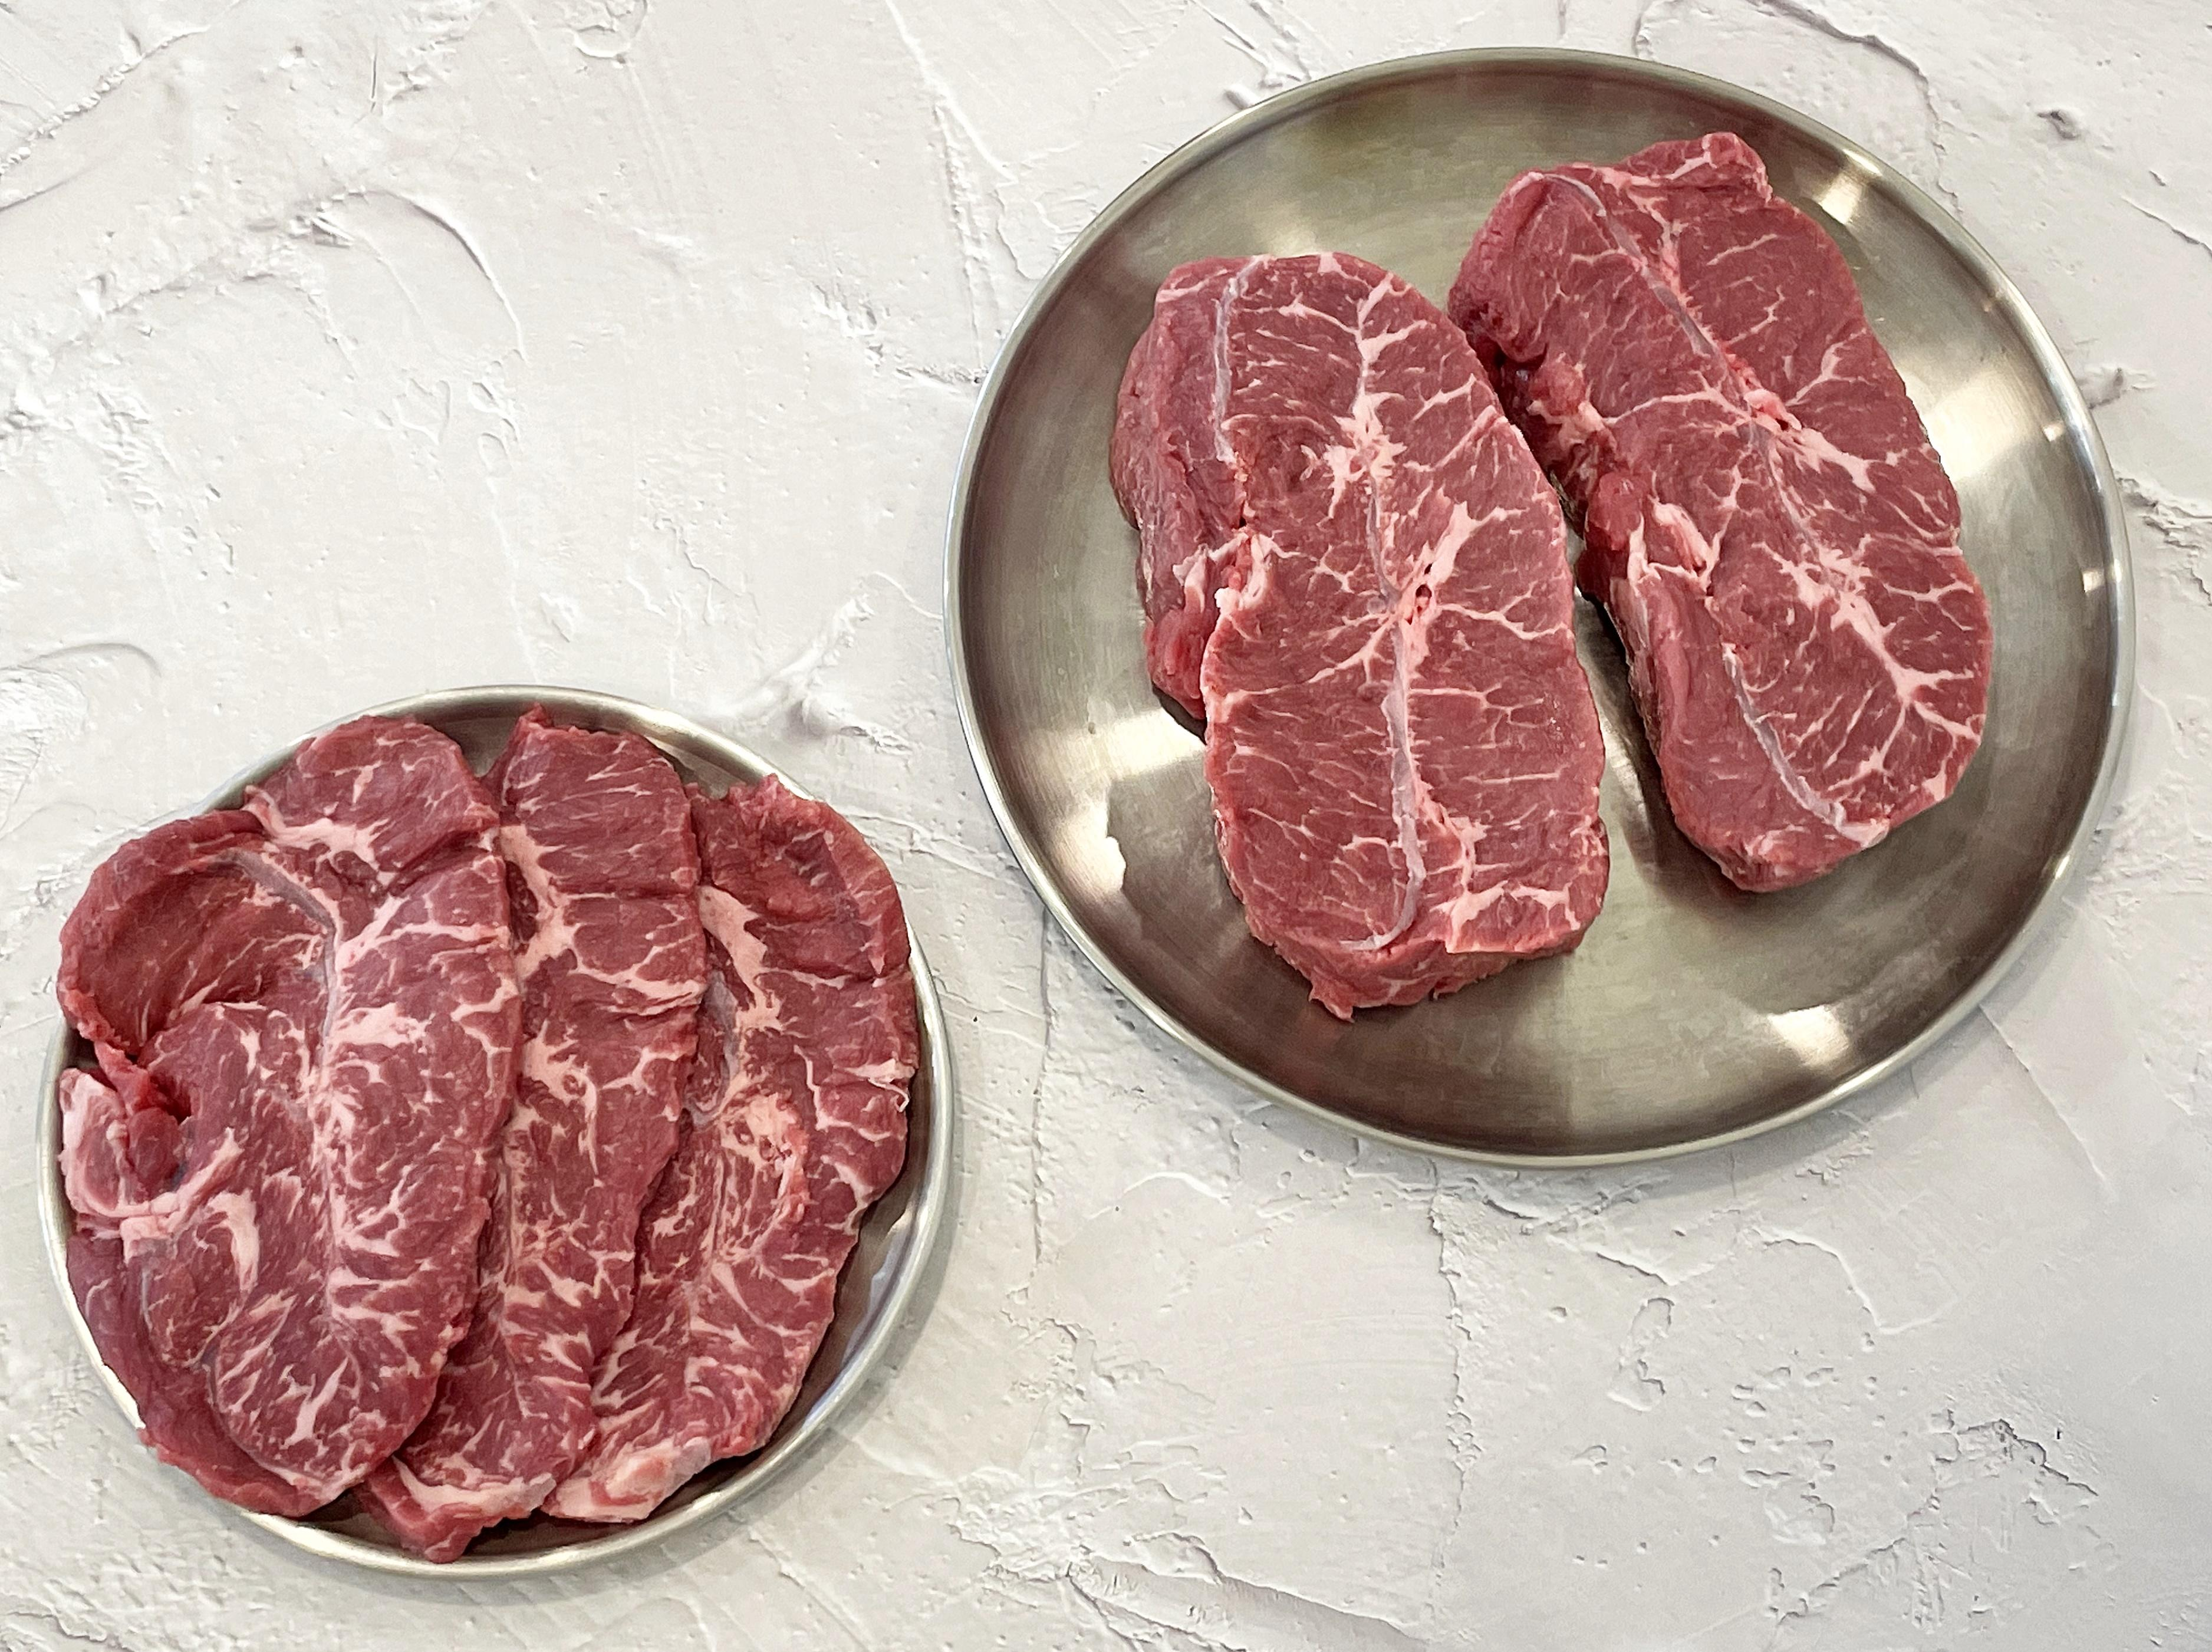beef: (1107, 826, 2212, 1652), (1128, 826, 2212, 1652), (1376, 826, 2212, 1652), (1383, 826, 2212, 1652)
